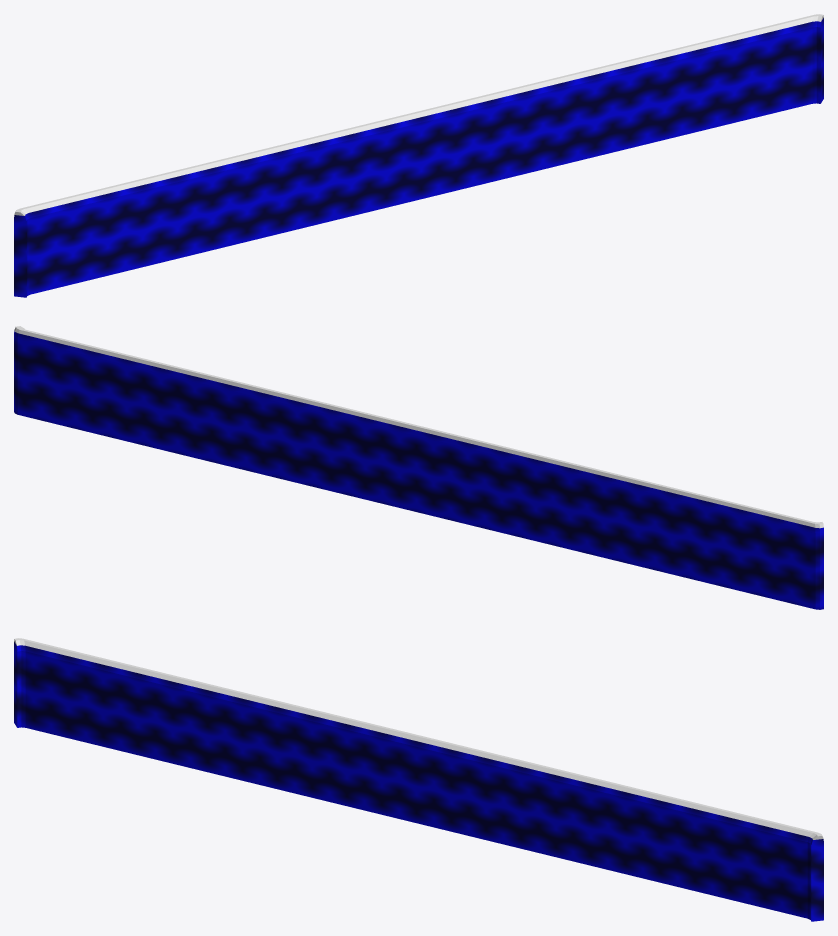
File: wall.gltf
The picture shows the model from 3 angles, top to bottom: view 1: azimuth 30°, elevation 25°; view 2: azimuth 150°, elevation 25°; view 3: azimuth 330°, elevation 25°; orthographic projection.
Visible parts, largest first — view 1: Wall; view 2: Wall; view 3: Wall.
Part boxes in pixels (box(x1,y1,x2,y2)): Wall: box(14, 14, 823, 297); Wall: box(14, 326, 823, 609); Wall: box(14, 638, 823, 921).
Bounding box in the file's own units: 10 × 1 × 0.1495.
Materials: 2 (1 with a texture image).
